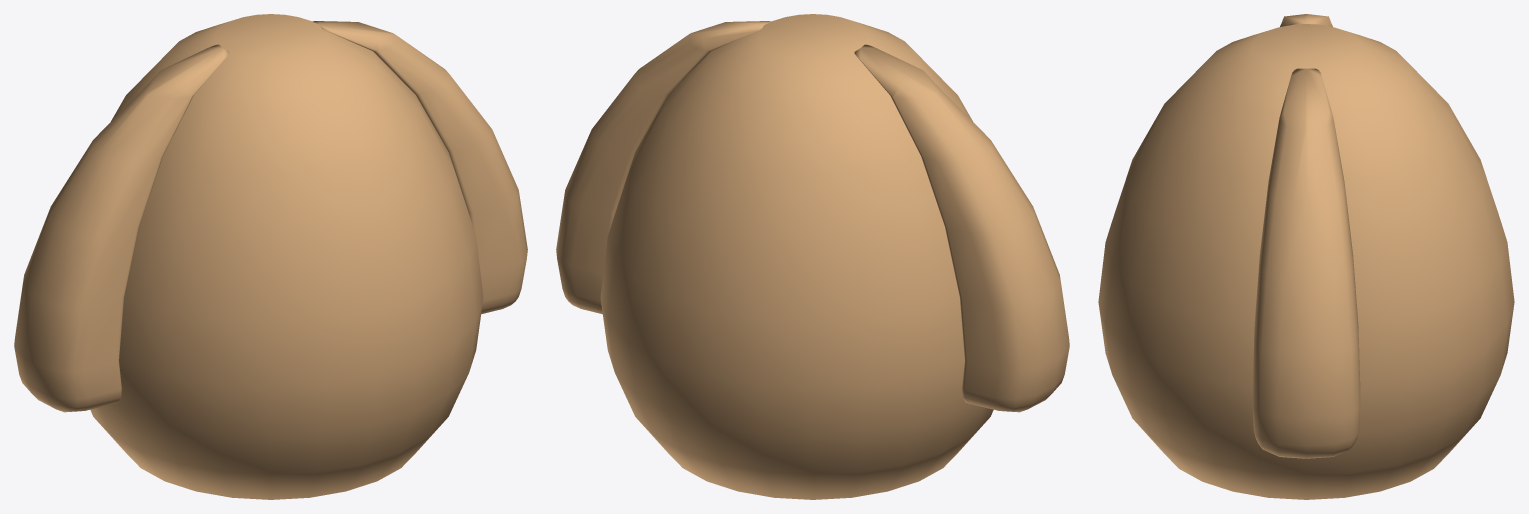
The model's file is CollectorDoggo-Body.fbx.
3 renders of one model, left to right at view 1: azimuth 30°, elevation 25°; view 2: azimuth 150°, elevation 25°; view 3: azimuth 270°, elevation 25°, orthographic. The views are drawn at different scales.
Visible parts, largest first — view 1: character_dog, character_dogArmRight, character_dogArmLeft; view 2: character_dog, character_dogArmRight, character_dogArmLeft; view 3: character_dog, character_dogArmLeft, character_dogArmRight.
Part boxes in pixels (x1=…): character_dog: x1=90, y1=14, x2=483, y2=499; character_dogArmRight: x1=14, y1=44, x2=229, y2=412; character_dogArmLeft: x1=312, y1=21, x2=527, y2=314; character_dog: x1=600, y1=14, x2=993, y2=499; character_dogArmRight: x1=854, y1=44, x2=1069, y2=412; character_dogArmLeft: x1=556, y1=21, x2=771, y2=314; character_dog: x1=1098, y1=24, x2=1514, y2=499; character_dogArmLeft: x1=1252, y1=68, x2=1360, y2=458; character_dogArmRight: x1=1280, y1=14, x2=1332, y2=26.
Bounding box in the file's own units: 93.79 × 72.77 × 70.
